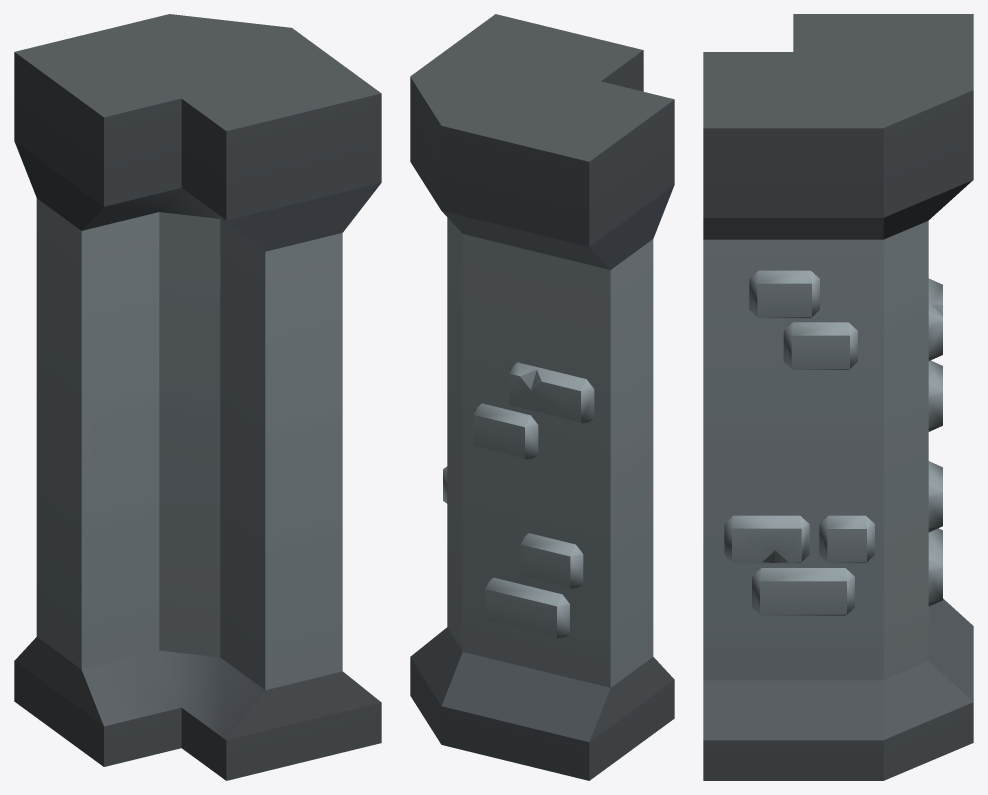
The model's file is wall_corner_small.glb.
The picture shows the model from 3 angles, left to right: view 1: azimuth 30°, elevation 25°; view 2: azimuth 150°, elevation 25°; view 3: azimuth 270°, elevation 25°; orthographic projection. The views are drawn at different scales.
Visible parts, largest first — view 1: wall_corner_small; view 2: wall_corner_small; view 3: wall_corner_small.
Part boxes in pixels (x1,y1,x2,y2): wall_corner_small: [14, 14, 381, 780]; wall_corner_small: [410, 14, 674, 780]; wall_corner_small: [703, 14, 973, 780].
Bounding box in the file's own units: 1.5 × 4 × 1.5.
1 material, 1 textured.
